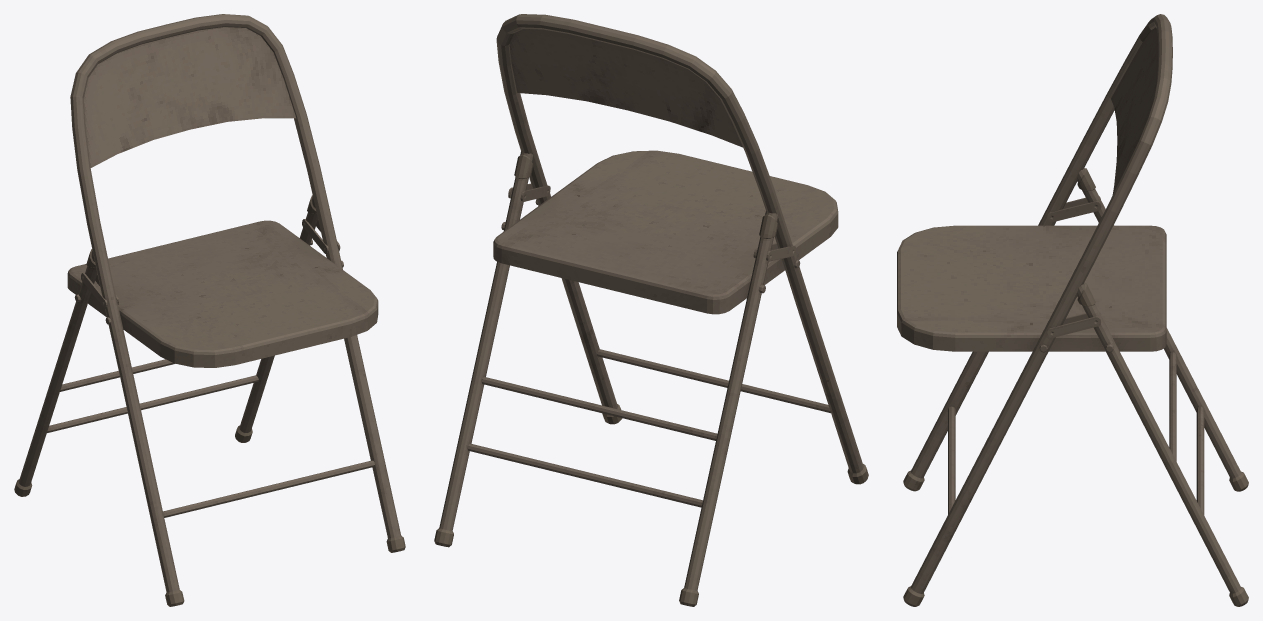
The model's file is folding_chair.glb.
The picture shows the model from 3 angles, left to right: view 1: azimuth 30°, elevation 25°; view 2: azimuth 150°, elevation 25°; view 3: azimuth 270°, elevation 25°; orthographic projection. The views are drawn at different scales.
Parts seen in each view (by area): view 1: folding_chair; view 2: folding_chair; view 3: folding_chair.
Boxes of the visible parts, bbox=[...] form: folding_chair: bbox=[14, 14, 405, 606]; folding_chair: bbox=[434, 14, 868, 606]; folding_chair: bbox=[897, 14, 1248, 606].
Size of the model in its own units: 0.5009 by 0.9483 by 0.6024.
Materials: 1 (1 with a texture image).
